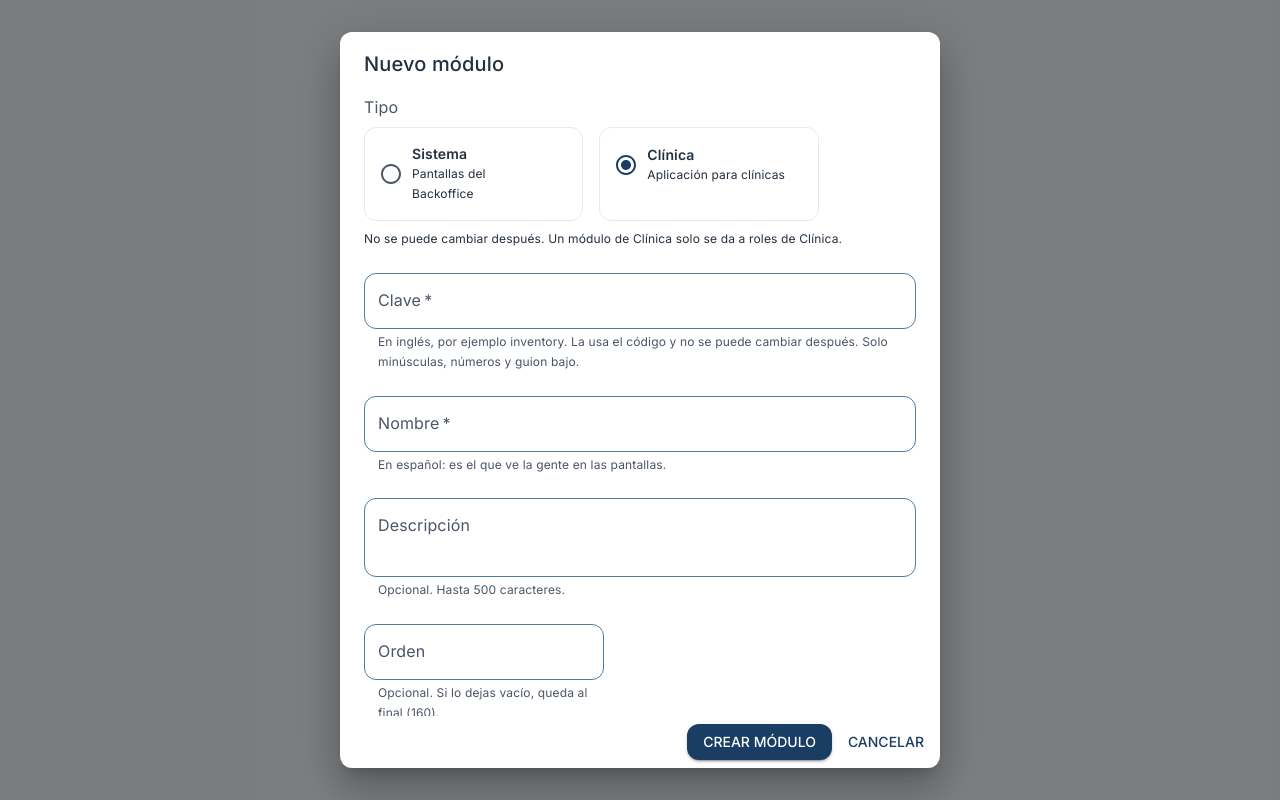
Test: ModuleCreatePanel › explains the key format before trying to save (W8)
Type "Inventory" into the field labelled "Clave". click: x=640, y=301
box: [364, 273, 916, 329]
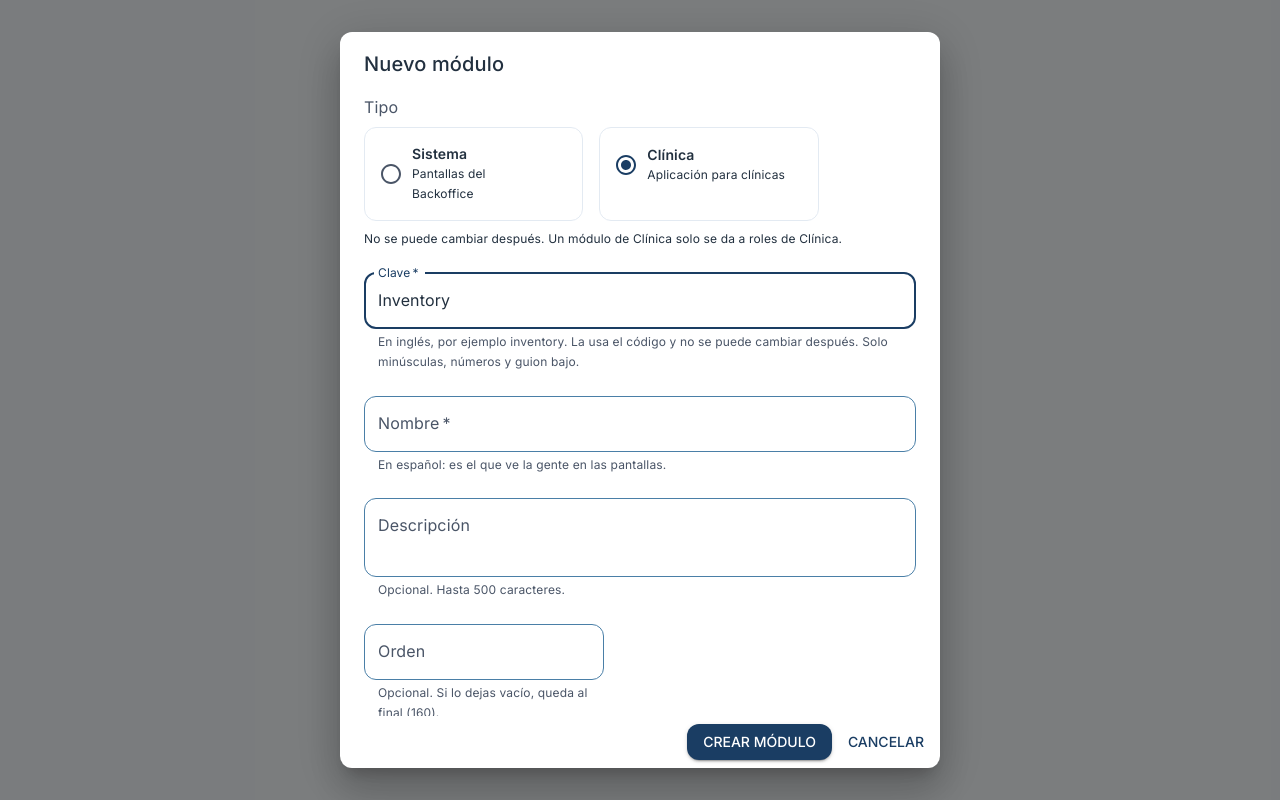
Type "Inventario" into the field labelled "Nombre". click: x=640, y=424
box: [364, 396, 916, 452]
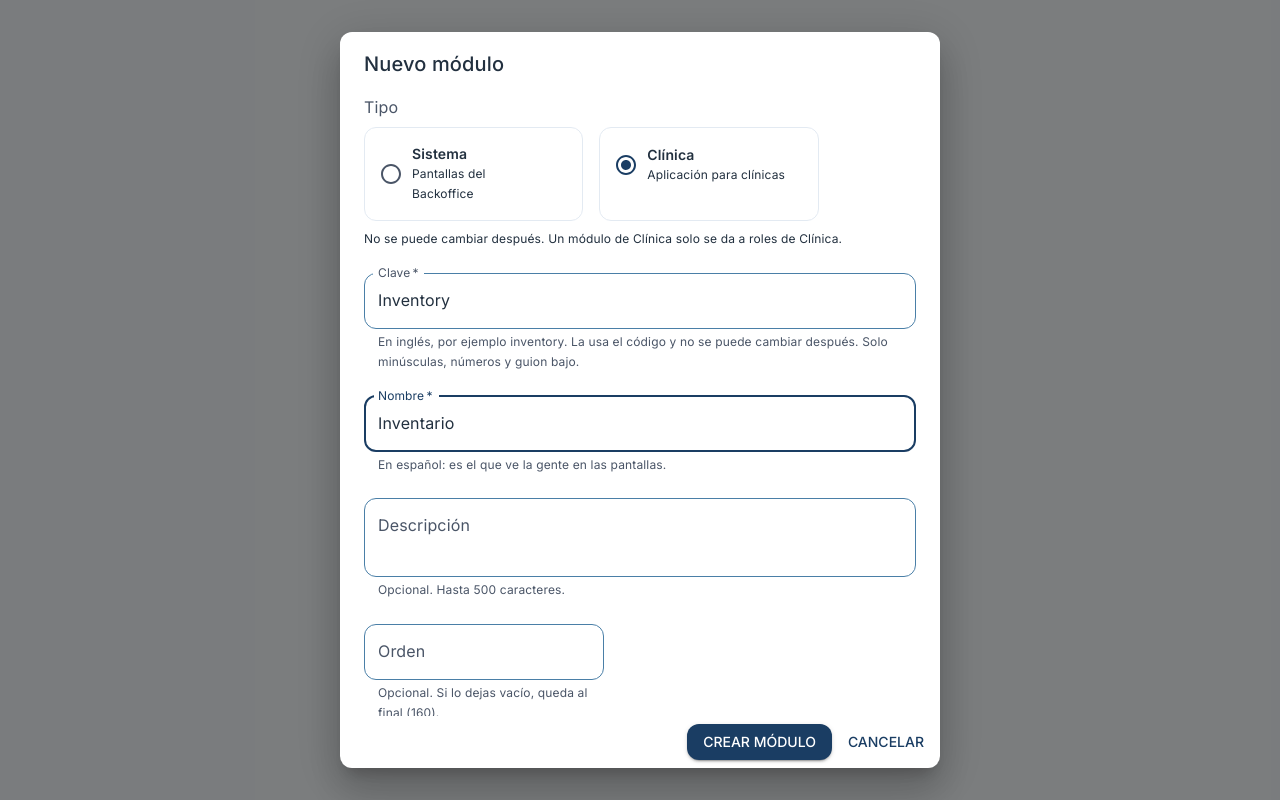
Click the button "Crear módulo". click: x=760, y=742
box: [687, 724, 832, 760]
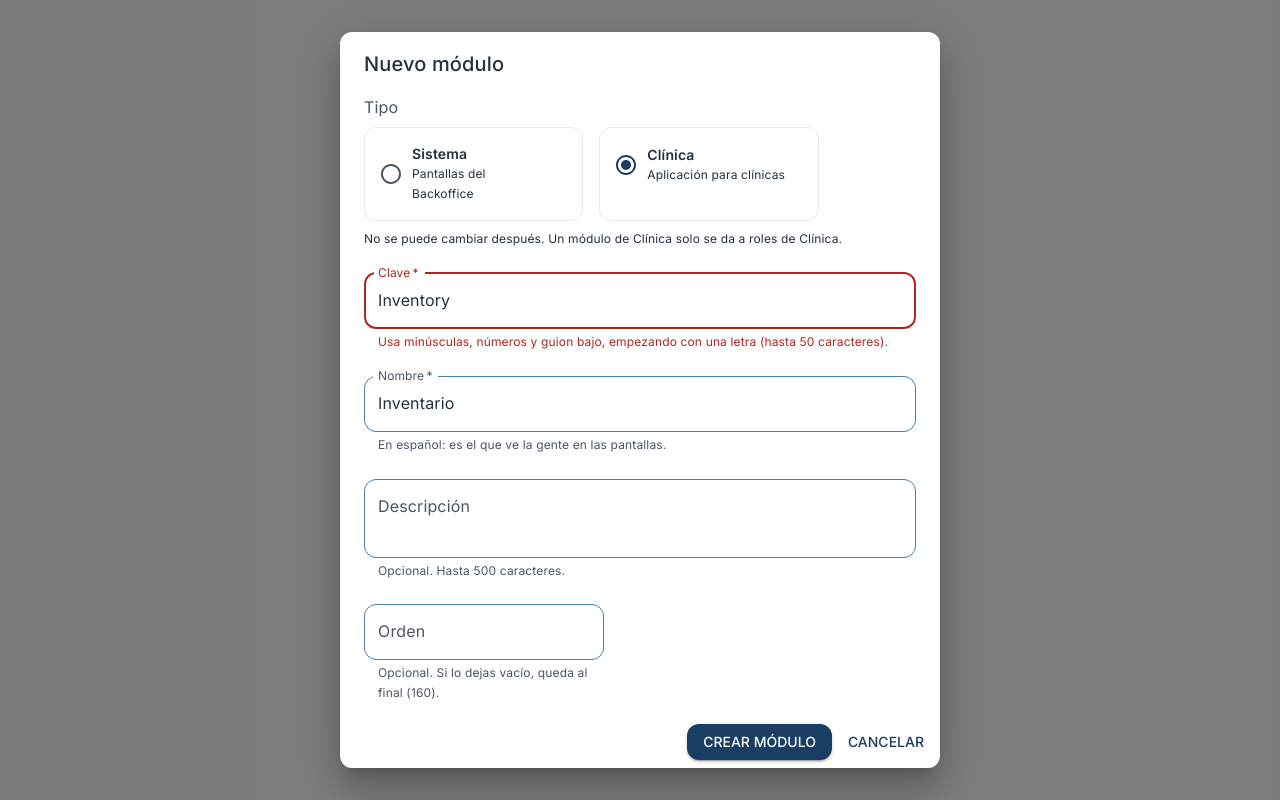
expect the text "Usa minúsculas, números y guion bajo, empezando con una letra (hasta 50 caracteres)." is shown: met, box [378, 334, 888, 349]
